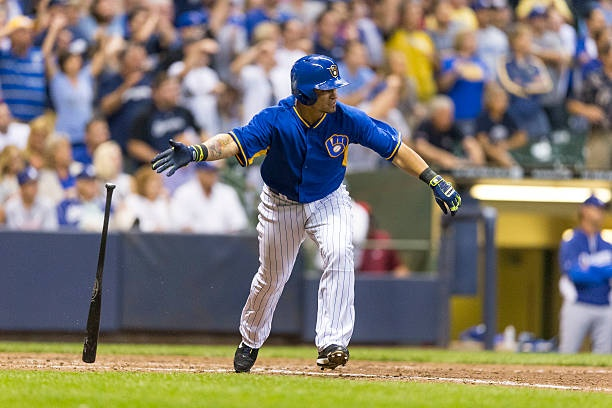bita: (75, 179, 119, 366)
